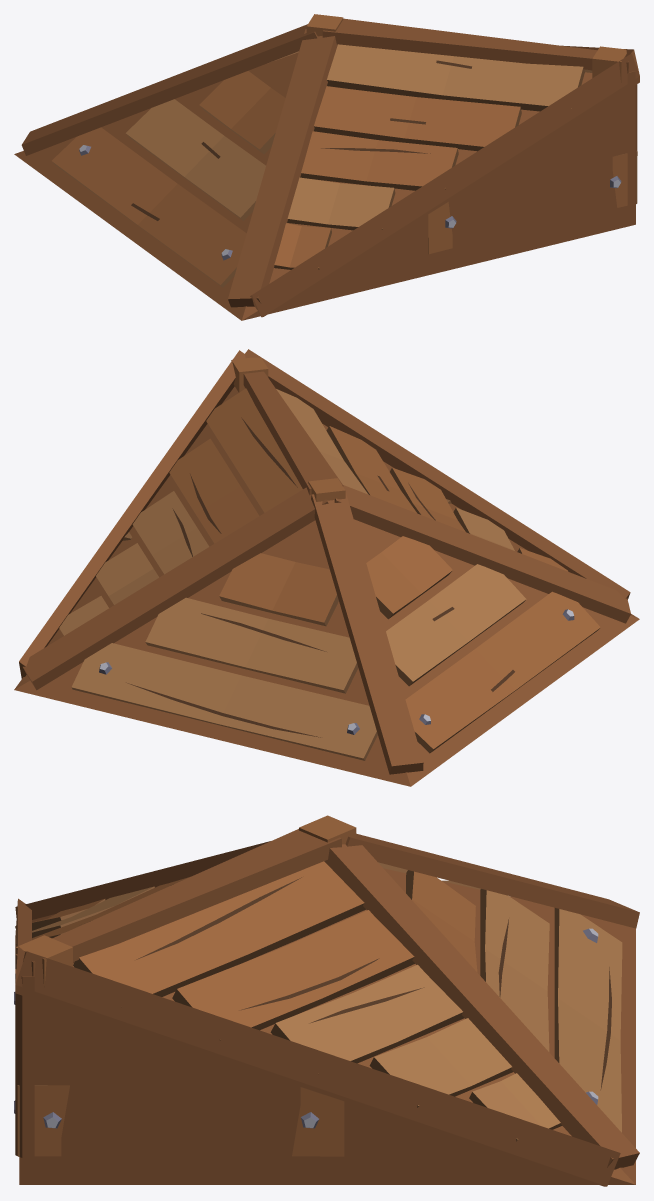
Rendered from cone_plank_peak.glb.
3 renders of one model, top to bottom at view 1: azimuth 30°, elevation 25°; view 2: azimuth 150°, elevation 25°; view 3: azimuth 270°, elevation 25°, orthographic. The views are drawn at different scales.
Parts seen in each view (by area): view 1: Body; view 2: Body; view 3: Body.
Part boxes in pixels (x1,y1,x2,y2): Body: (14,14,639,320); Body: (14,349,639,786); Body: (14,815,639,1186).
Size of the model in its own units: 4 by 1.65 by 4.
